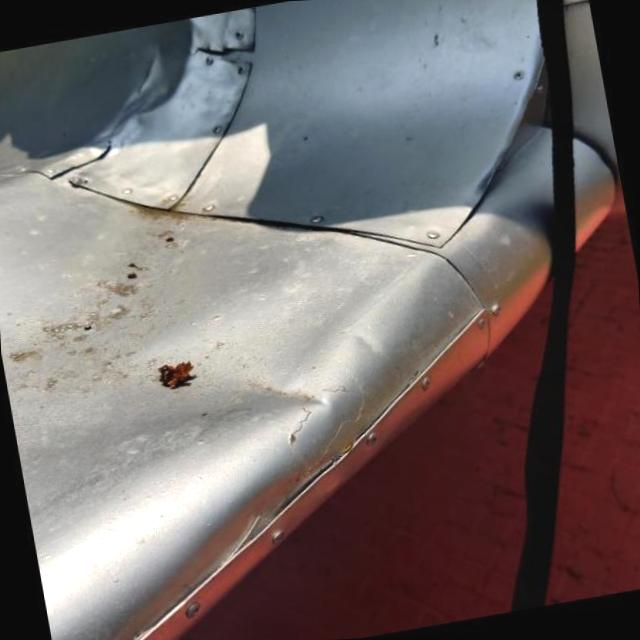dent: (40, 280, 365, 540), (44, 18, 195, 150)
